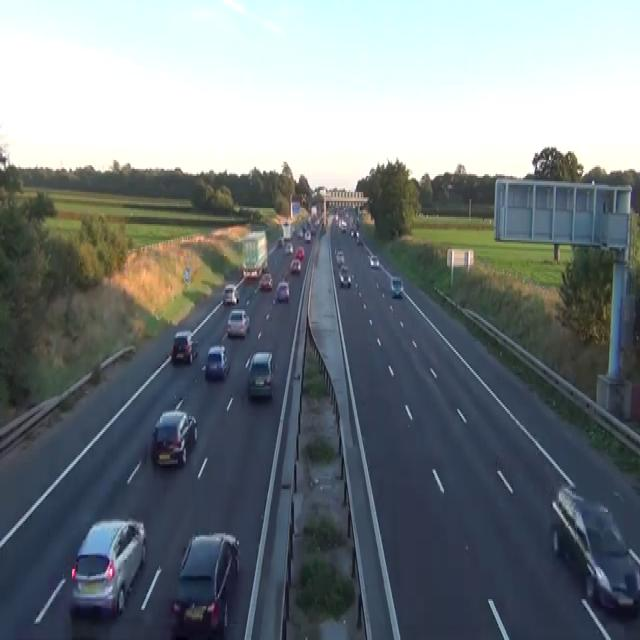Car: (550, 482, 639, 613), (70, 517, 146, 617), (170, 530, 239, 638), (150, 409, 197, 467), (245, 350, 273, 398), (201, 345, 229, 379), (171, 329, 198, 364), (226, 308, 250, 338), (222, 282, 239, 306), (242, 263, 260, 279), (390, 275, 403, 297), (276, 281, 289, 302), (338, 265, 351, 286), (259, 272, 273, 290), (290, 258, 301, 274), (335, 249, 344, 265), (369, 254, 379, 267), (296, 246, 304, 260), (284, 242, 293, 254), (304, 229, 311, 242), (261, 261, 268, 274), (350, 226, 357, 236), (355, 231, 360, 244), (340, 221, 346, 231), (278, 237, 284, 247), (297, 226, 303, 236), (301, 192, 306, 204), (321, 222, 326, 233), (309, 226, 315, 234), (334, 214, 338, 222), (291, 226, 295, 234)
Truck: (241, 229, 268, 279), (281, 220, 292, 240)
